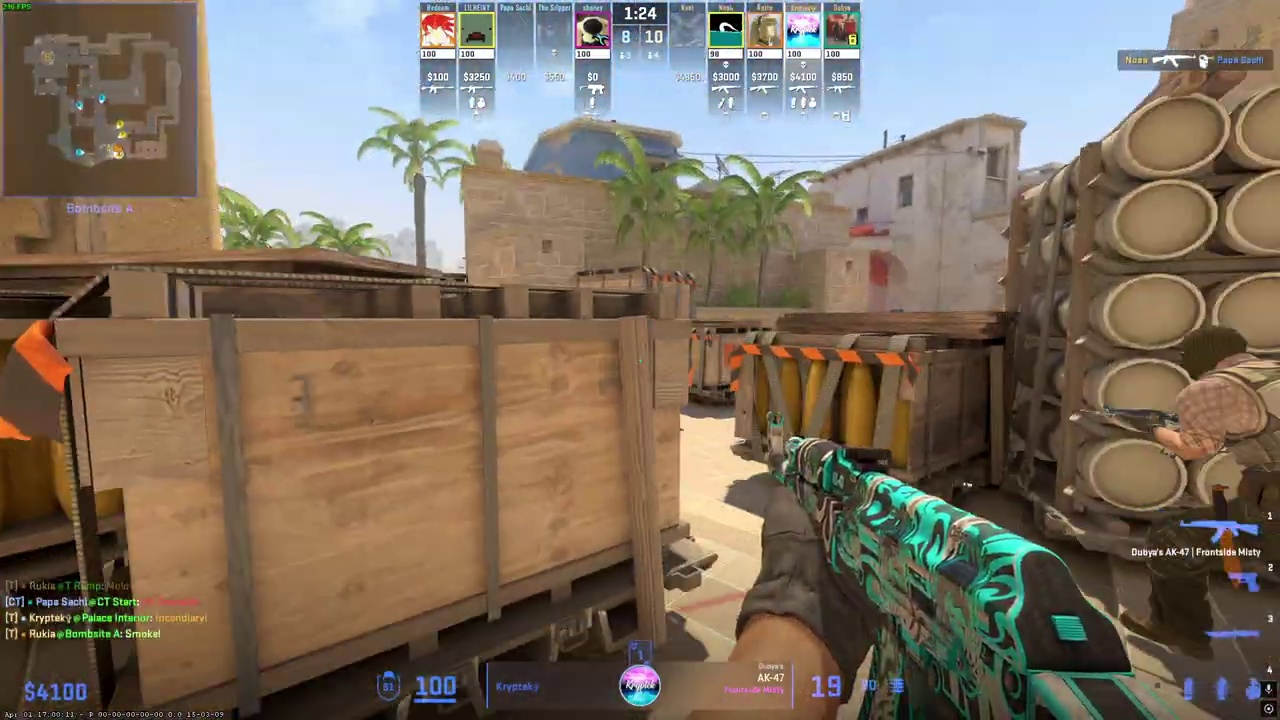Terrorist: (1140, 324, 1280, 720)
